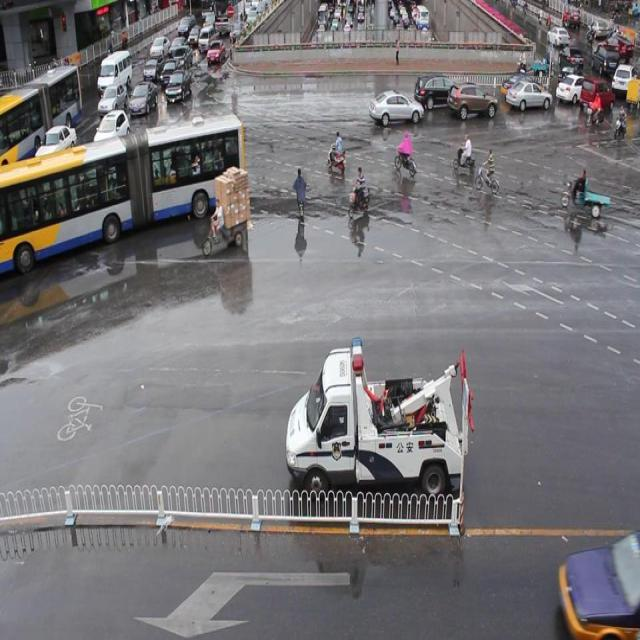bus: (285, 338, 464, 498)
car: (367, 89, 423, 126), (447, 80, 496, 118), (505, 78, 551, 112), (413, 74, 460, 106), (500, 72, 545, 98)
van: (1, 120, 242, 255)
